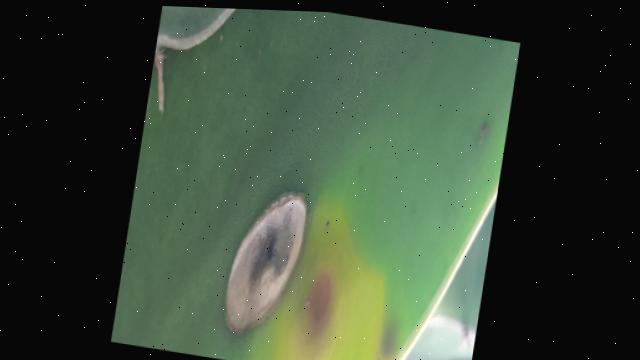stemcanker: (216, 187, 321, 339)
